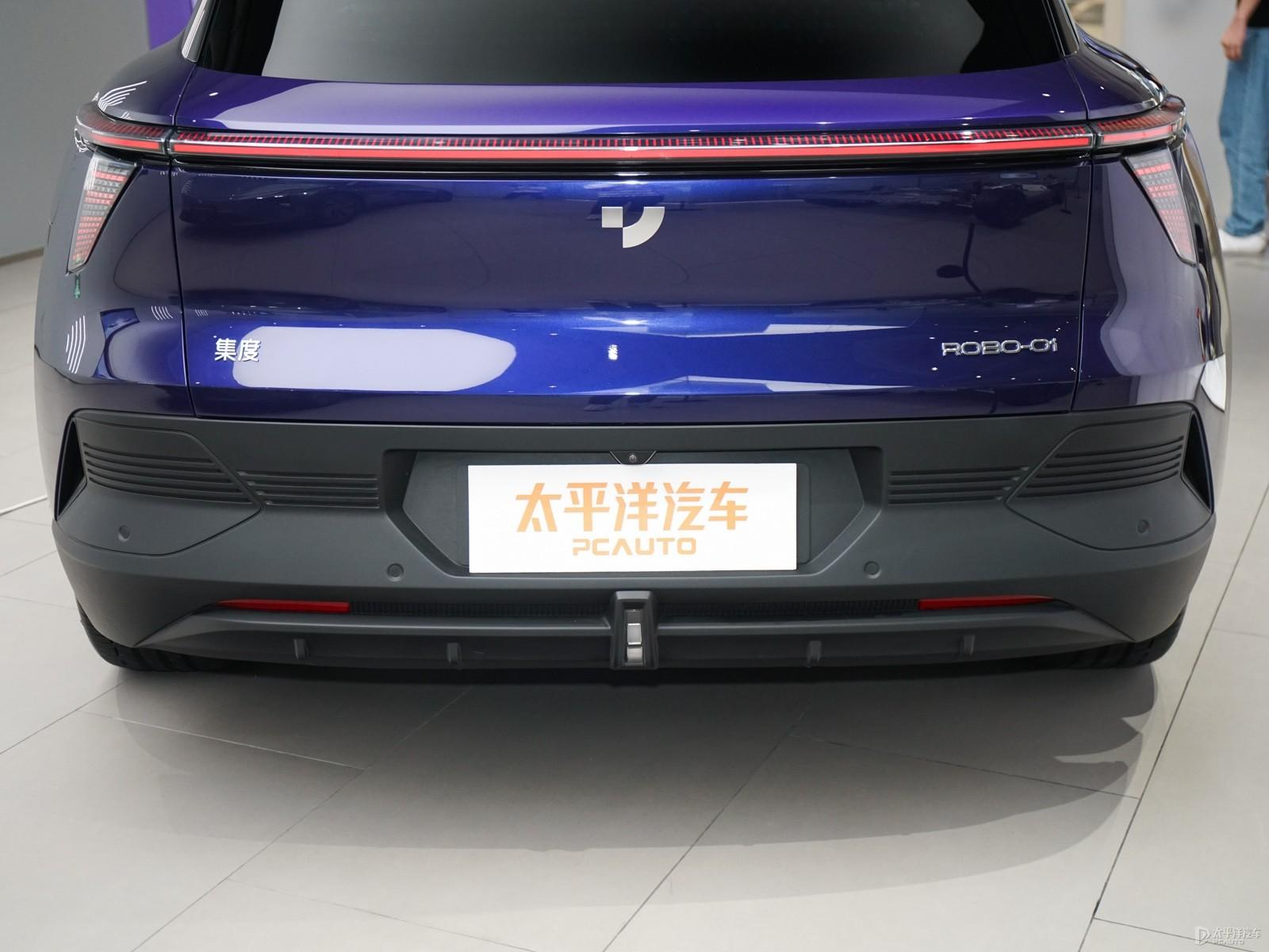JIYUE: (599, 204, 668, 250)
